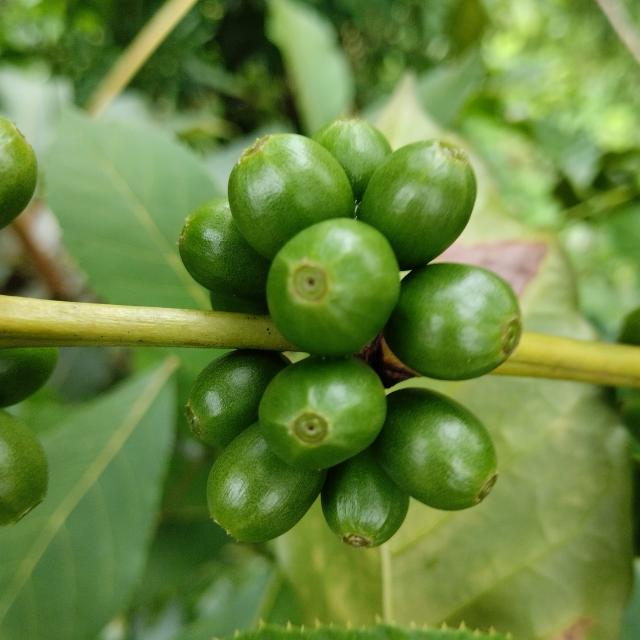green: (266, 218, 401, 357), (384, 262, 524, 381), (228, 133, 355, 260), (358, 138, 477, 270), (372, 388, 498, 511), (259, 356, 387, 470), (206, 423, 327, 543), (178, 197, 270, 314), (184, 350, 291, 448), (321, 449, 410, 549), (312, 117, 393, 202), (0, 410, 47, 526), (0, 116, 36, 229), (0, 348, 57, 408)
